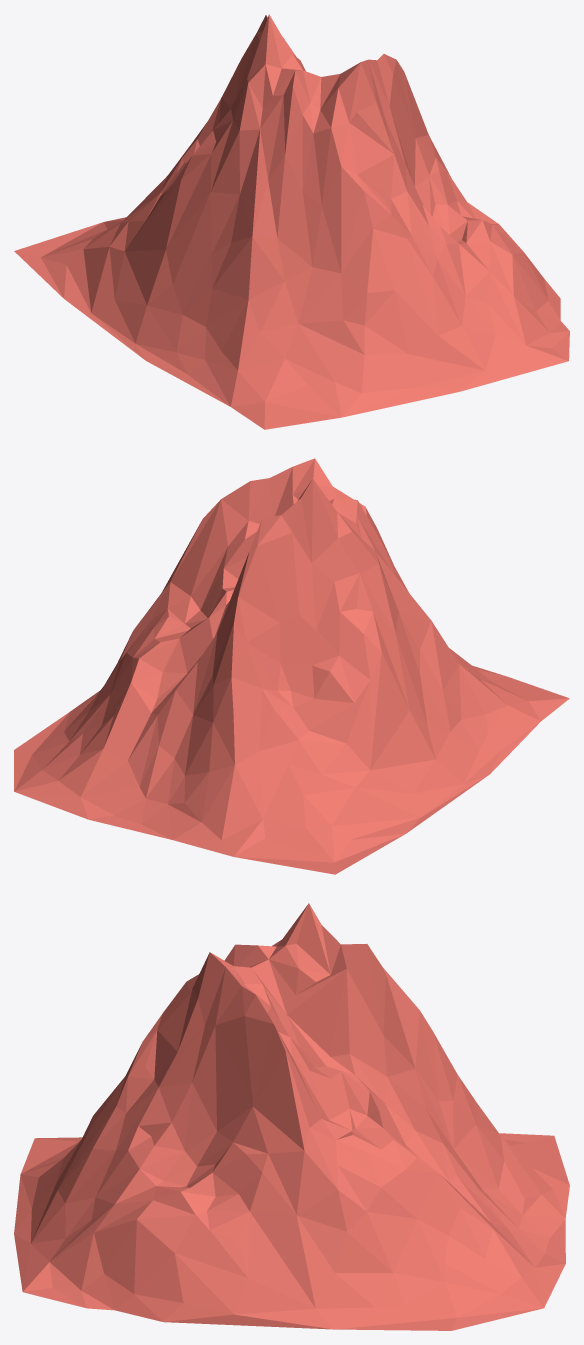
Rendered from Montain_1.glb.
3 renders of one model, top to bottom at view 1: azimuth 30°, elevation 25°; view 2: azimuth 150°, elevation 25°; view 3: azimuth 270°, elevation 25°, orthographic. The views are drawn at different scales.
Parts seen in each view (by area): view 1: Montain_1; view 2: Montain_1; view 3: Montain_1.
Boxes of the visible parts, box(x1,y1,x2,y2) form: Montain_1: box(14, 14, 569, 429); Montain_1: box(14, 458, 569, 874); Montain_1: box(14, 903, 569, 1330).
Bounding box in the file's own units: 1971 × 1386 × 2290.
